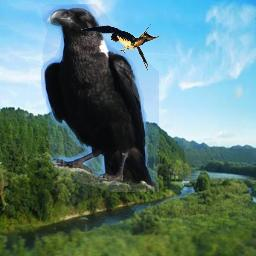Crow: (41, 4, 159, 192)
Swallow: (79, 21, 174, 71)
